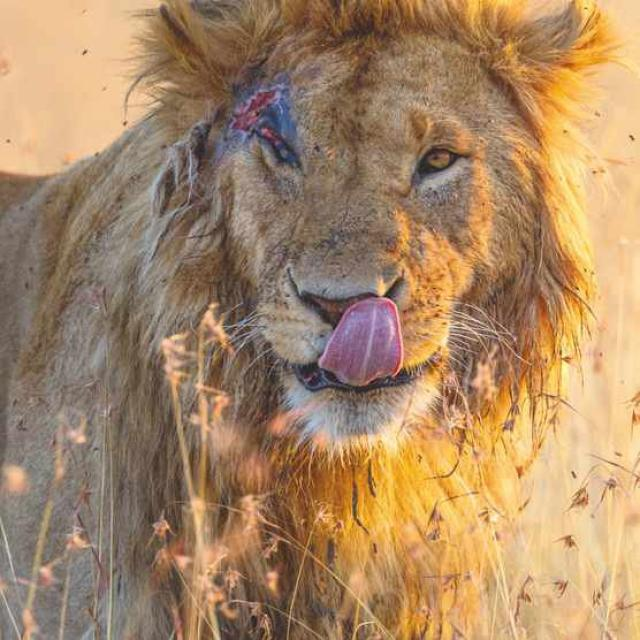Lion: (0, 0, 630, 639)
